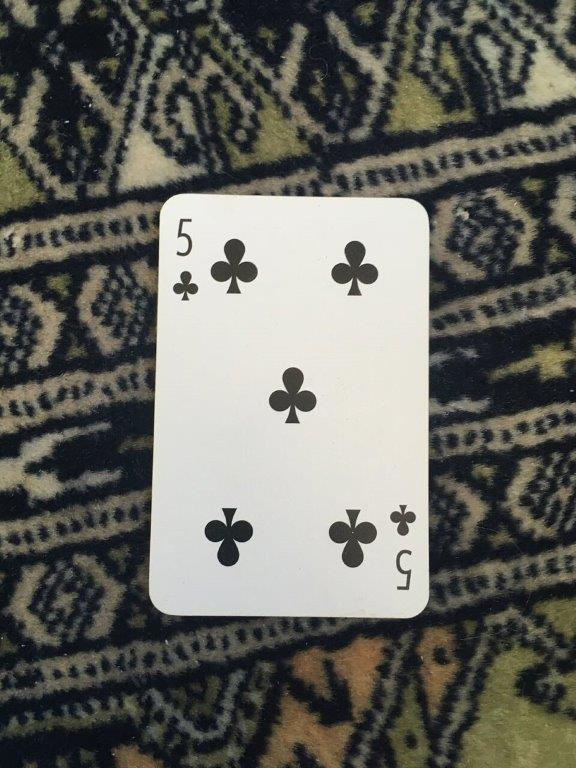5C: (144, 189, 433, 622)
